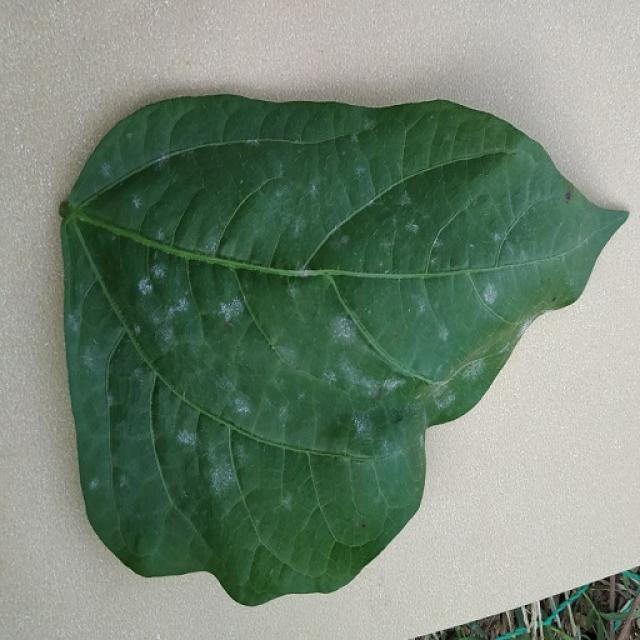Blackgram: (62, 96, 626, 604)
Powdery_Mildew: (501, 204, 574, 265), (324, 314, 366, 351), (208, 455, 235, 495), (275, 339, 301, 367), (218, 298, 243, 325), (459, 359, 486, 383), (434, 385, 457, 410), (155, 320, 176, 345), (352, 413, 371, 437), (232, 395, 251, 416), (176, 427, 196, 446), (129, 366, 147, 387), (383, 377, 403, 395), (482, 282, 497, 305), (172, 296, 189, 315), (66, 313, 80, 335), (151, 264, 168, 282), (138, 277, 153, 296), (277, 403, 289, 422), (437, 325, 450, 342), (100, 161, 113, 178), (156, 153, 169, 170), (324, 369, 338, 384), (204, 236, 217, 252), (399, 192, 412, 207), (281, 493, 293, 509), (405, 222, 419, 234), (355, 164, 366, 177), (119, 474, 129, 488), (132, 196, 142, 209), (309, 182, 319, 195), (89, 478, 99, 490), (297, 269, 312, 277), (248, 138, 260, 147), (298, 389, 307, 401), (351, 133, 361, 143), (157, 229, 166, 240), (106, 393, 114, 405), (492, 232, 501, 242), (340, 235, 349, 245), (126, 131, 134, 140), (134, 325, 141, 335), (384, 269, 389, 274), (239, 179, 244, 184), (407, 308, 411, 313)
